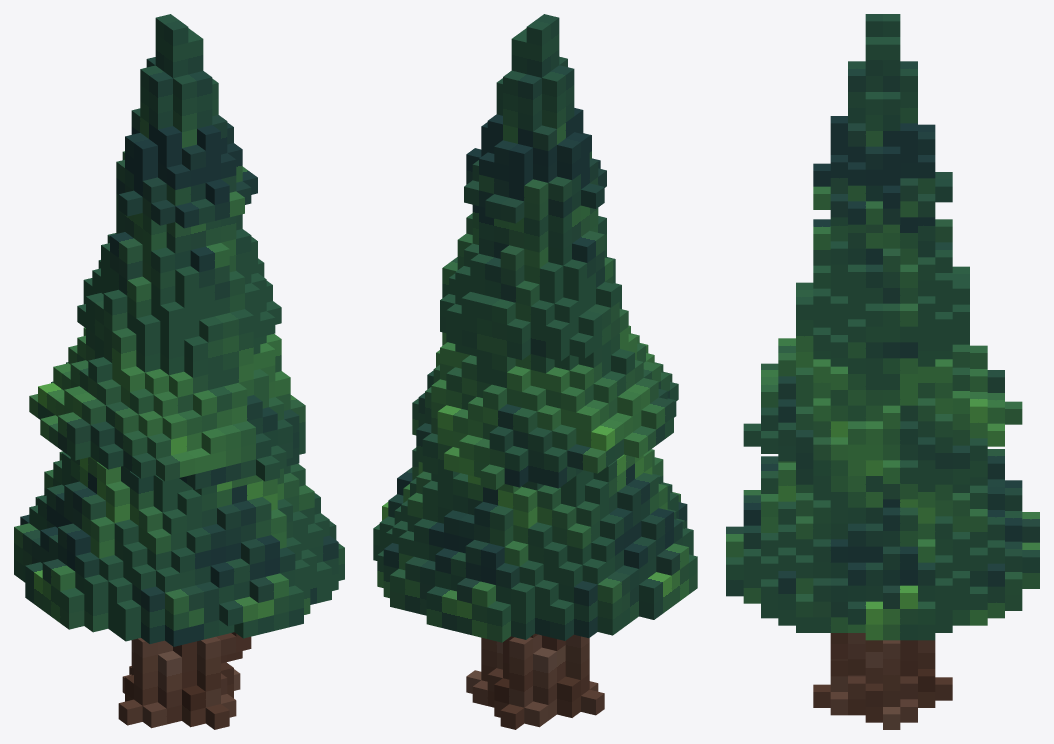
File: Conifer7.fbx
3 views of the same model, side by side, from view 1: azimuth 30°, elevation 25°; view 2: azimuth 150°, elevation 25°; view 3: azimuth 270°, elevation 25° (orthographic).
Parts seen in each view (by area): view 1: Conifer7; view 2: Conifer7; view 3: Conifer7.
Part boxes in pixels (x1,y1,x2,y2): Conifer7: (14,14,344,729); Conifer7: (373,14,697,729); Conifer7: (726,14,1039,729).
Bounding box in the file's own units: 1.8 × 4.3 × 1.8.
1 material, 1 textured.
